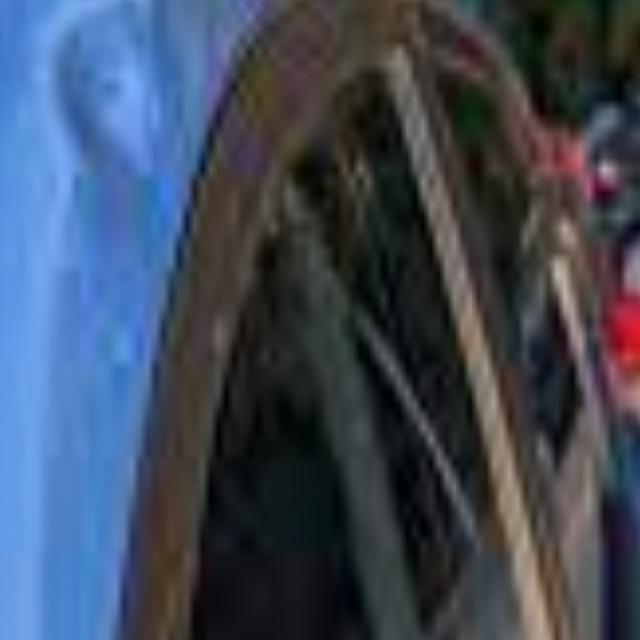dents: (40, 19, 207, 218)
